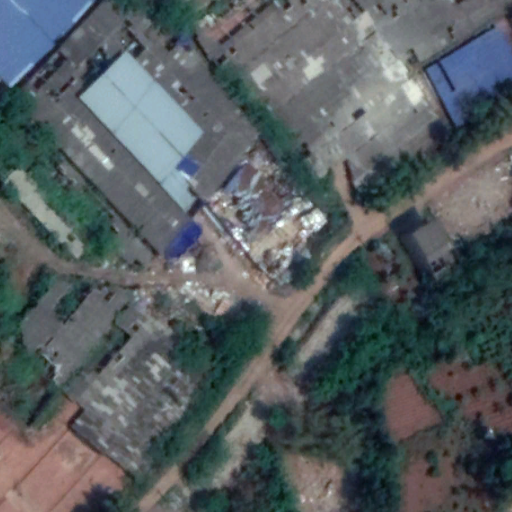msw: (215, 153, 330, 284)
